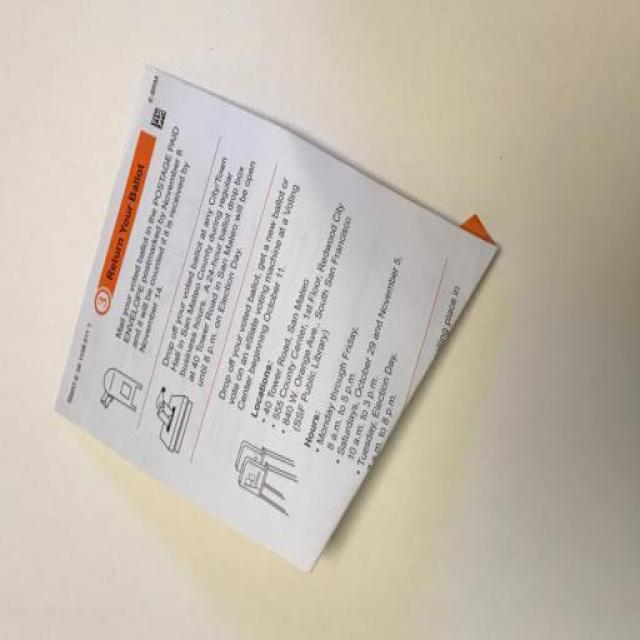paper: (39, 45, 529, 557)
